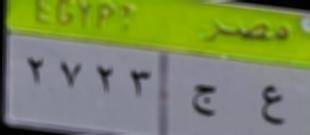2: (90, 61, 116, 100), (23, 51, 49, 90)
3: (125, 67, 158, 102)
7: (58, 56, 85, 92)
ain: (257, 80, 292, 129)
jeem: (188, 80, 220, 123)
